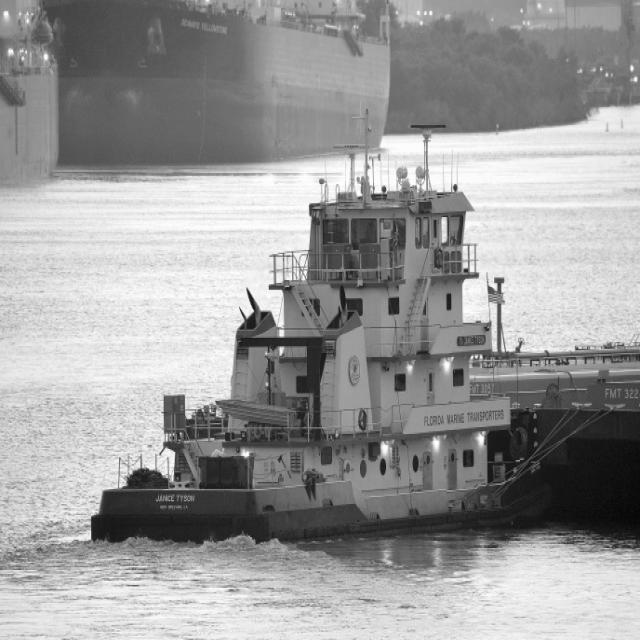tugboat: (83, 121, 576, 552)
